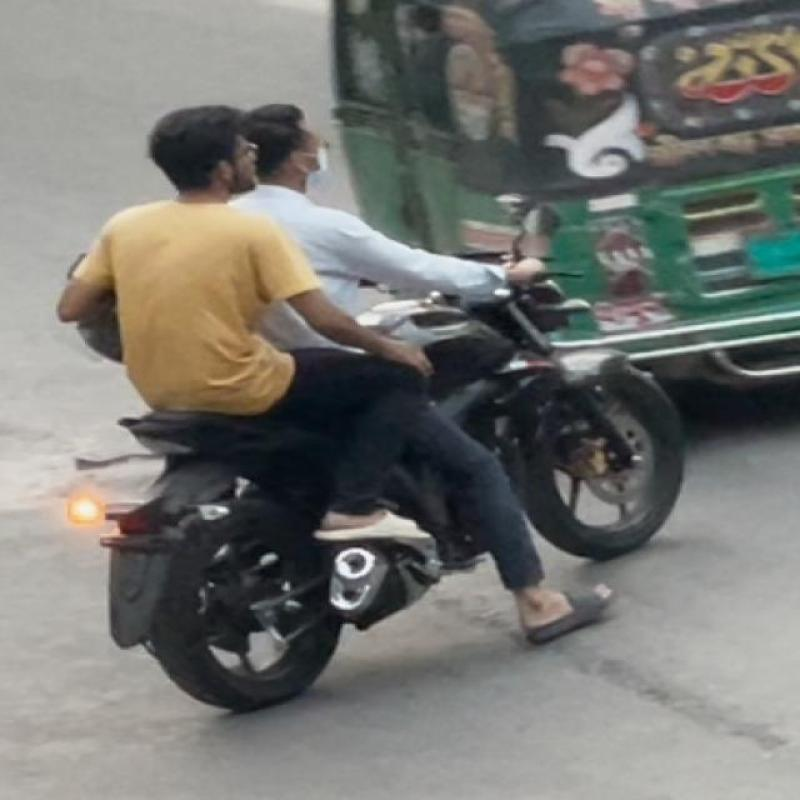nohelmet: (111, 94, 285, 207)
